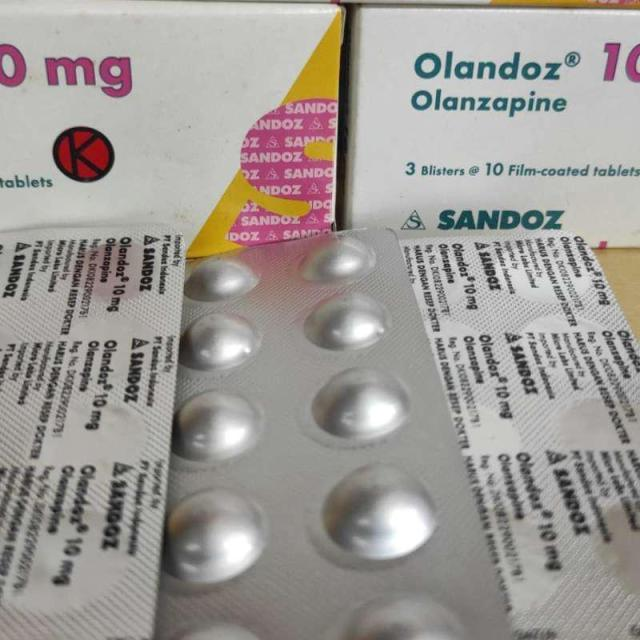drug-name: (408, 46, 584, 84)
